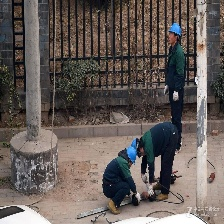helmet: (127, 144, 139, 166), (168, 21, 183, 35)
person: (162, 21, 188, 150), (103, 146, 141, 216)
